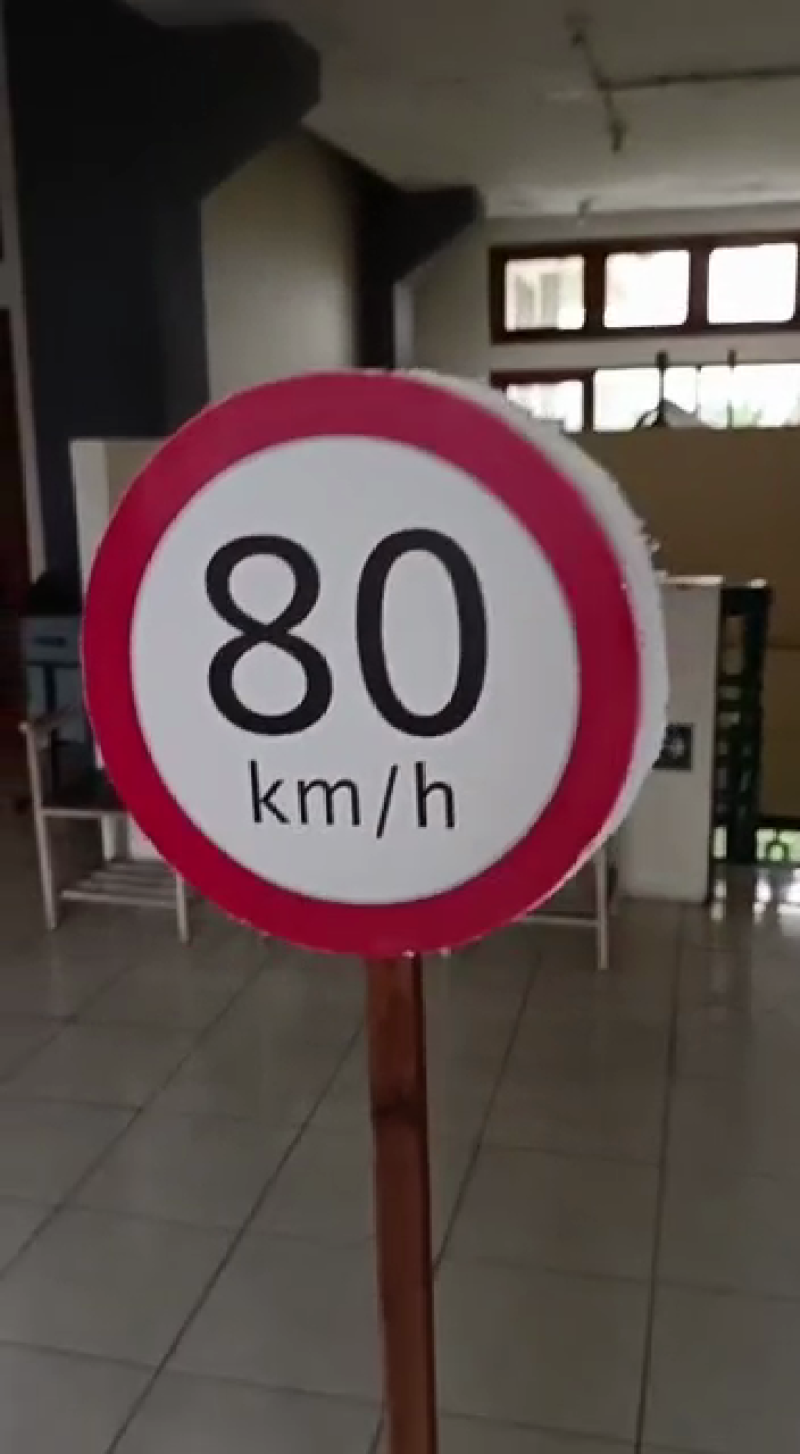batas maksimal 80kmperjam: (75, 361, 662, 971)
